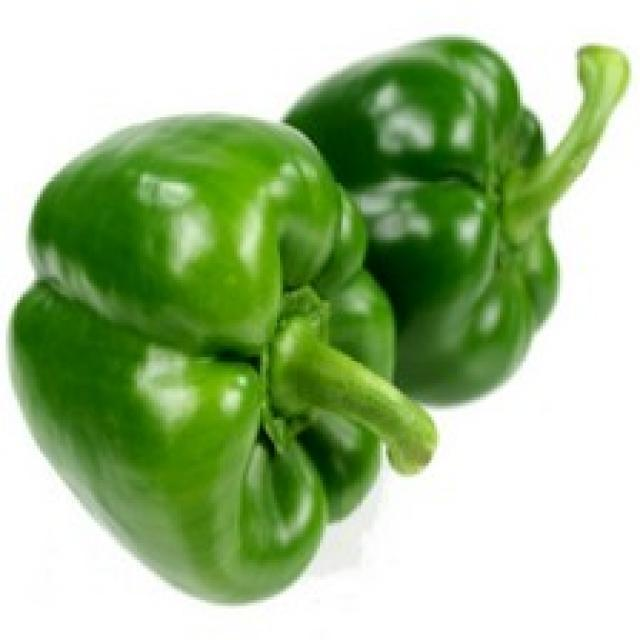Pepper: (7, 113, 440, 609), (281, 35, 631, 410)
